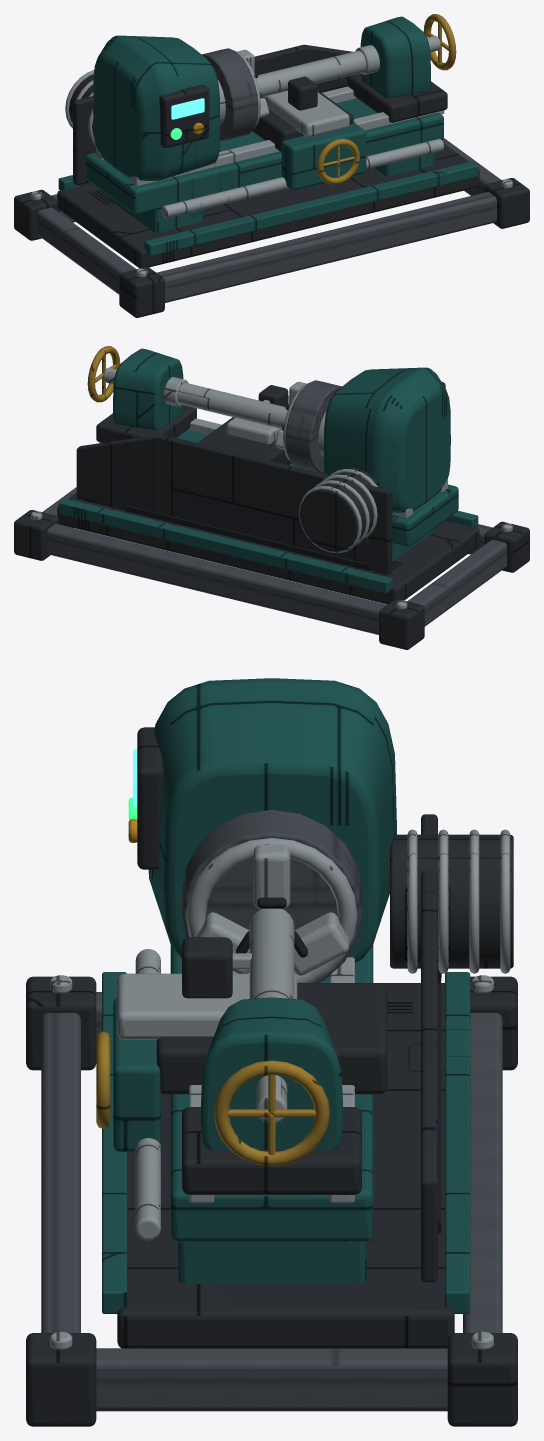
File: cargo-machine-tool-skid_lod0.glb
3 views of the same model, one above another, from view 1: azimuth 30°, elevation 25°; view 2: azimuth 150°, elevation 25°; view 3: azimuth 270°, elevation 25° (orthographic). The views are drawn at different scales.
Visible parts, largest first — view 1: LOD0_Hull, LOD0_Armor, LOD0_Mechanical, LOD0_BrushedMetal, LOD0_Livery, LOD0_Lights_Cyan; view 2: LOD0_Armor, LOD0_Hull, LOD0_Mechanical, LOD0_BrushedMetal, LOD0_MechanicalDark, LOD0_Livery; view 3: LOD0_Armor, LOD0_Hull, LOD0_Mechanical, LOD0_BrushedMetal, LOD0_Livery, LOD0_MechanicalDark.
Boxes of the visible parts, bbox=[...] form: LOD0_Hull: bbox=[58, 16, 478, 256]; LOD0_Armor: bbox=[14, 44, 529, 317]; LOD0_Mechanical: bbox=[37, 48, 501, 302]; LOD0_BrushedMetal: bbox=[31, 35, 512, 277]; LOD0_Livery: bbox=[317, 14, 456, 184]; LOD0_Lights_Cyan: bbox=[171, 98, 204, 119]; LOD0_Armor: bbox=[14, 382, 529, 649]; LOD0_Hull: bbox=[58, 348, 478, 593]; LOD0_Mechanical: bbox=[42, 380, 506, 634]; LOD0_BrushedMetal: bbox=[31, 367, 512, 609]; LOD0_MechanicalDark: bbox=[125, 404, 370, 570]; LOD0_Livery: bbox=[87, 346, 120, 402]; LOD0_Armor: bbox=[26, 727, 517, 1426]; LOD0_Hull: bbox=[102, 678, 470, 1313]; LOD0_Mechanical: bbox=[41, 809, 502, 1411]; LOD0_BrushedMetal: bbox=[50, 829, 510, 1349]; LOD0_Livery: bbox=[96, 1031, 329, 1166]; LOD0_MechanicalDark: bbox=[236, 897, 441, 1232].
Bounding box in the file's own units: 3.25 × 1.67 × 1.75.
Materials: 9 (7 with a texture image).
